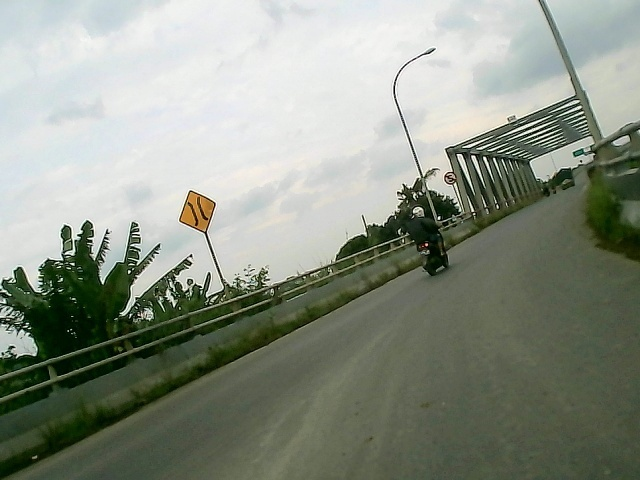Jembatan: (179, 188, 219, 236)
